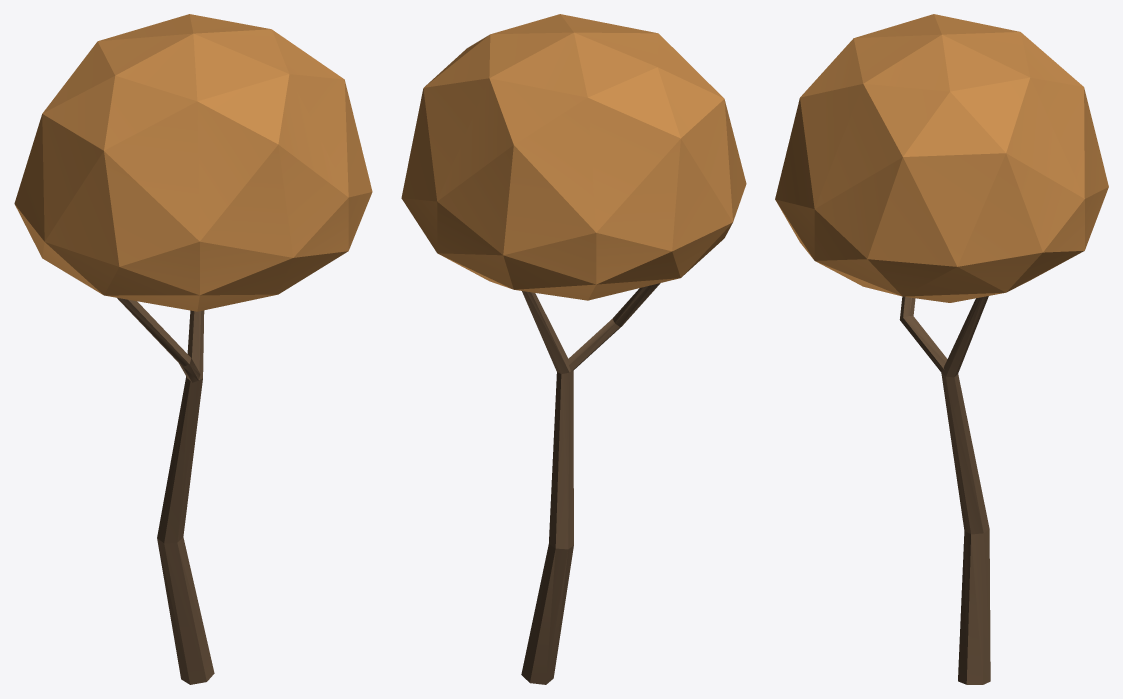
File: tree_orange_3.glb
3 renders of one model, left to right at view 1: azimuth 30°, elevation 25°; view 2: azimuth 150°, elevation 25°; view 3: azimuth 270°, elevation 25°, orthographic. The views are drawn at different scales.
Parts seen in each view (by area): view 1: Tree Yellow 3.473; view 2: Tree Yellow 3.473; view 3: Tree Yellow 3.473.
Boxes of the visible parts, x1,y1,x2,y2 form: Tree Yellow 3.473: (14, 14, 372, 684); Tree Yellow 3.473: (401, 14, 746, 684); Tree Yellow 3.473: (775, 14, 1108, 684).
Size of the model in its own units: 0.1792 by 0.3618 by 0.1713.
